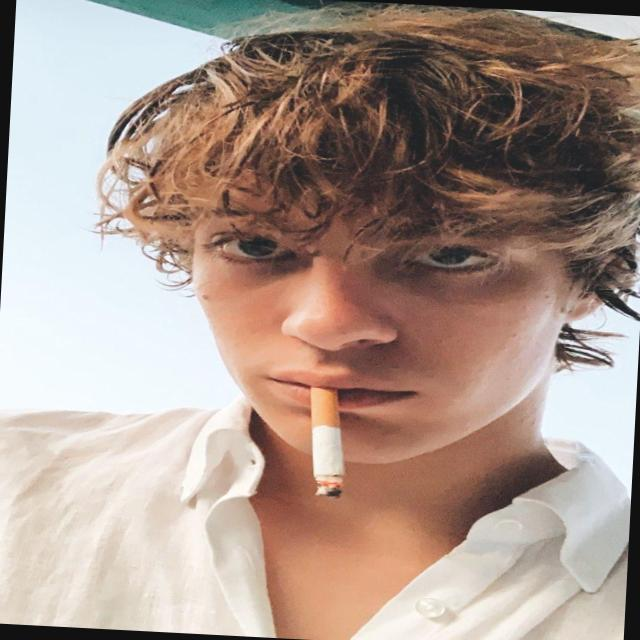smoke: (282, 367, 385, 501)
